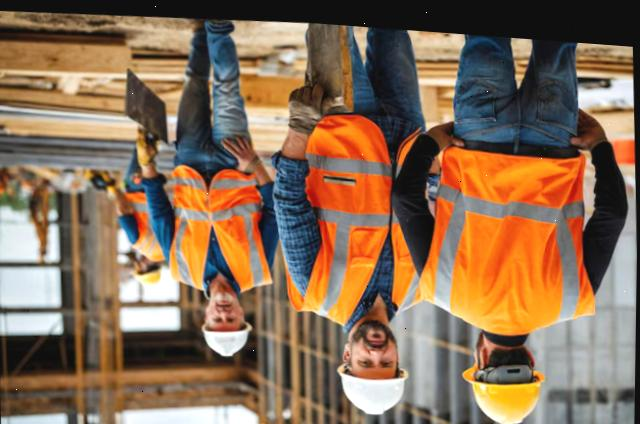helmet: (463, 362, 550, 423), (339, 357, 411, 409), (203, 318, 248, 357), (135, 262, 166, 286)
vest: (439, 132, 599, 320), (290, 117, 431, 318), (172, 166, 269, 285), (136, 185, 167, 259)
